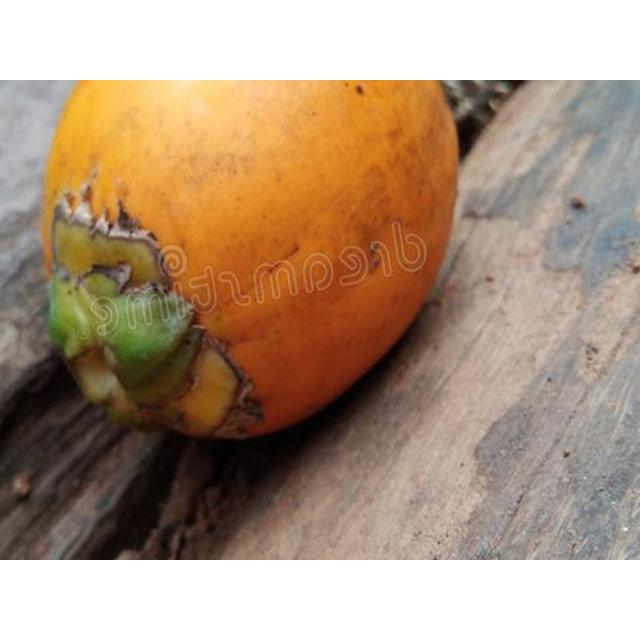good: (35, 80, 460, 442)
